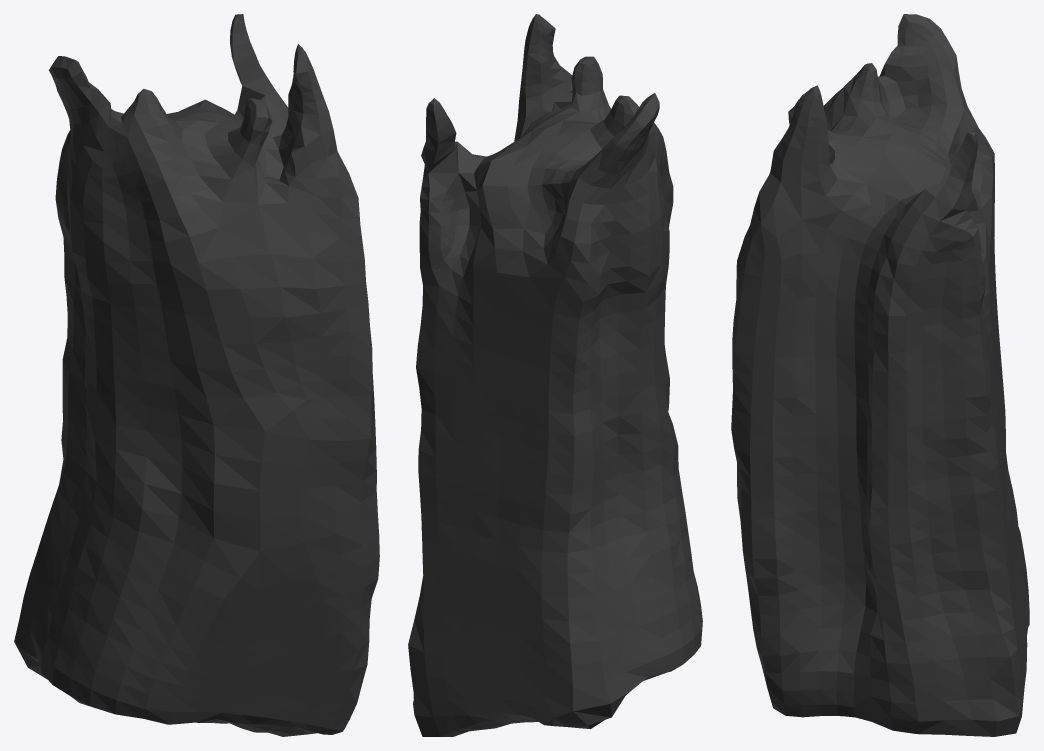
Rendered from R_max_PM4_copy000.glb.
3 renders of one model, left to right at view 1: azimuth 30°, elevation 25°; view 2: azimuth 150°, elevation 25°; view 3: azimuth 270°, elevation 25°, orthographic. The views are drawn at different scales.
Visible parts, largest first — view 1: R_max_PM4_copy000; view 2: R_max_PM4_copy000; view 3: R_max_PM4_copy000.
Boxes of the visible parts, x1,y1,x2,y2 form: R_max_PM4_copy000: (14,14,379,736); R_max_PM4_copy000: (408,14,702,736); R_max_PM4_copy000: (731,14,1029,736).
Bounding box in the file's own units: 0.4885 × 1.23 × 0.5165.
1 material, 1 textured.
